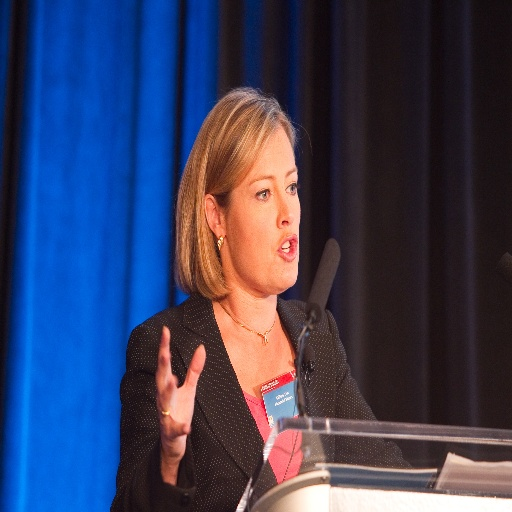hand: (143, 335, 220, 455)
